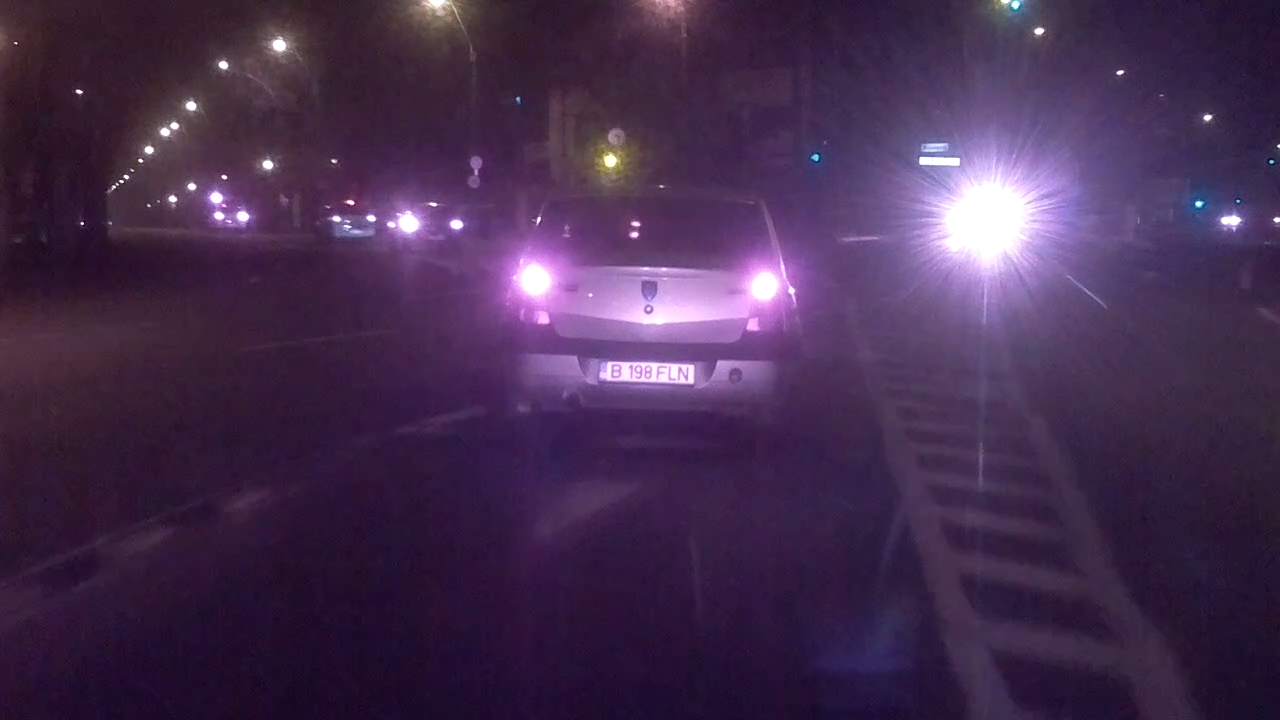license-plate: (593, 357, 698, 388)
